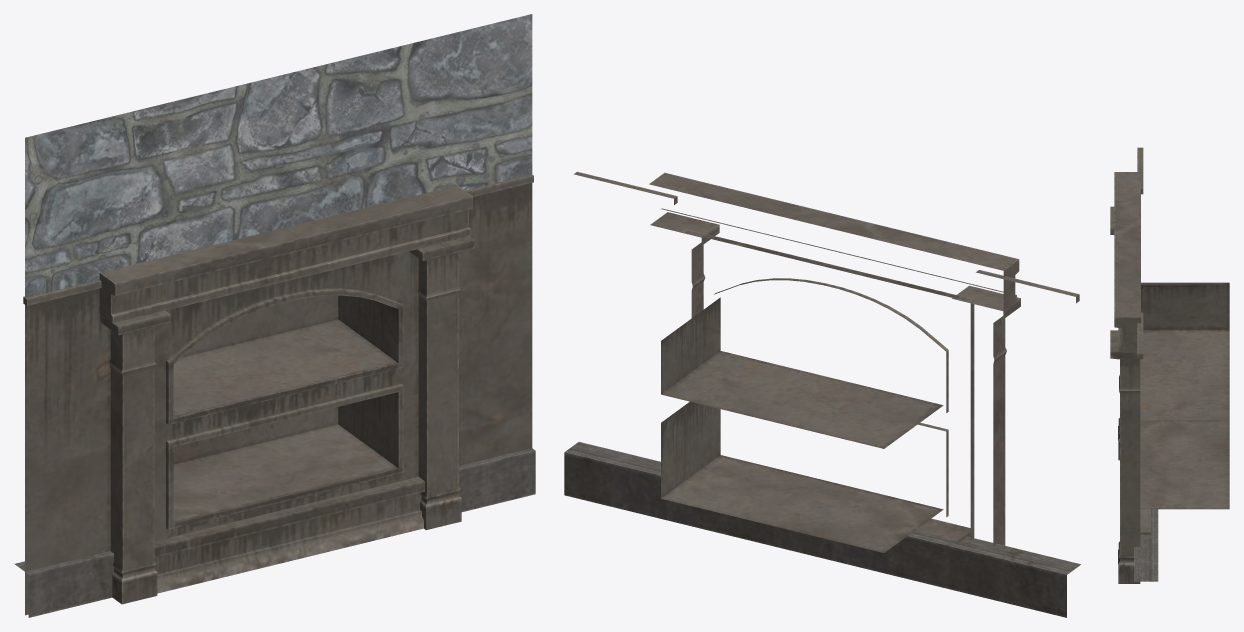
File: SM_Crypt_Wall_Decorative_C.glb
The picture shows the model from 3 angles, left to right: view 1: azimuth 30°, elevation 25°; view 2: azimuth 150°, elevation 25°; view 3: azimuth 270°, elevation 25°; orthographic projection. The views are drawn at different scales.
Parts seen in each view (by area): view 1: SM_Crypt_Wall_Decorative_C; view 2: SM_Crypt_Wall_Decorative_C; view 3: SM_Crypt_Wall_Decorative_C.
Boxes of the visible parts, x1=… form: SM_Crypt_Wall_Decorative_C: x1=14, y1=14, x2=535, y2=617; SM_Crypt_Wall_Decorative_C: x1=564, y1=171, x2=1080, y2=617; SM_Crypt_Wall_Decorative_C: x1=1110, y1=147, x2=1229, y2=583.
Size of the model in its own units: 5 by 4.5 by 1.22.
3 materials, 3 textured.
